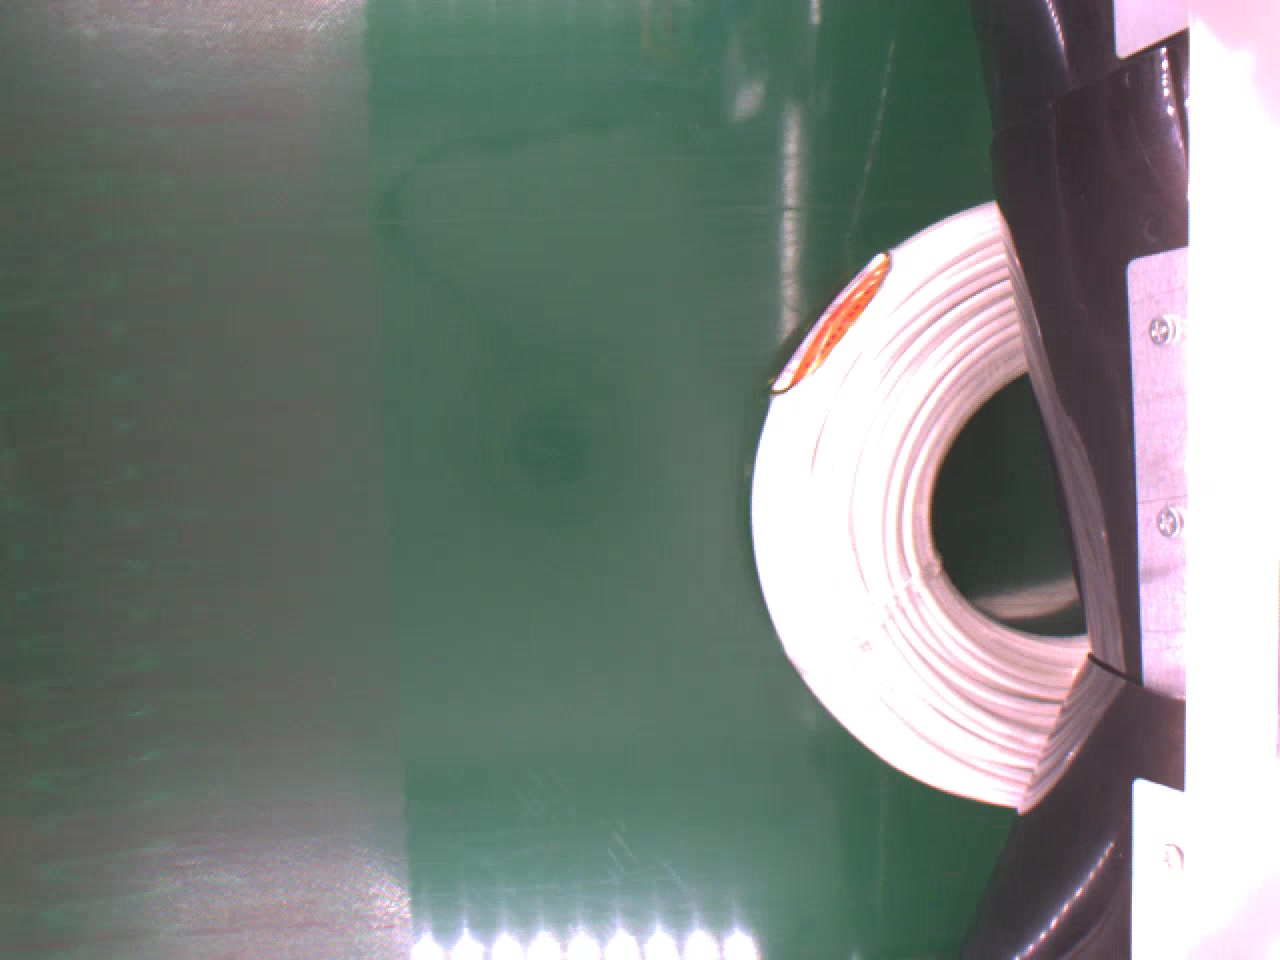white: (743, 197, 1087, 810)
